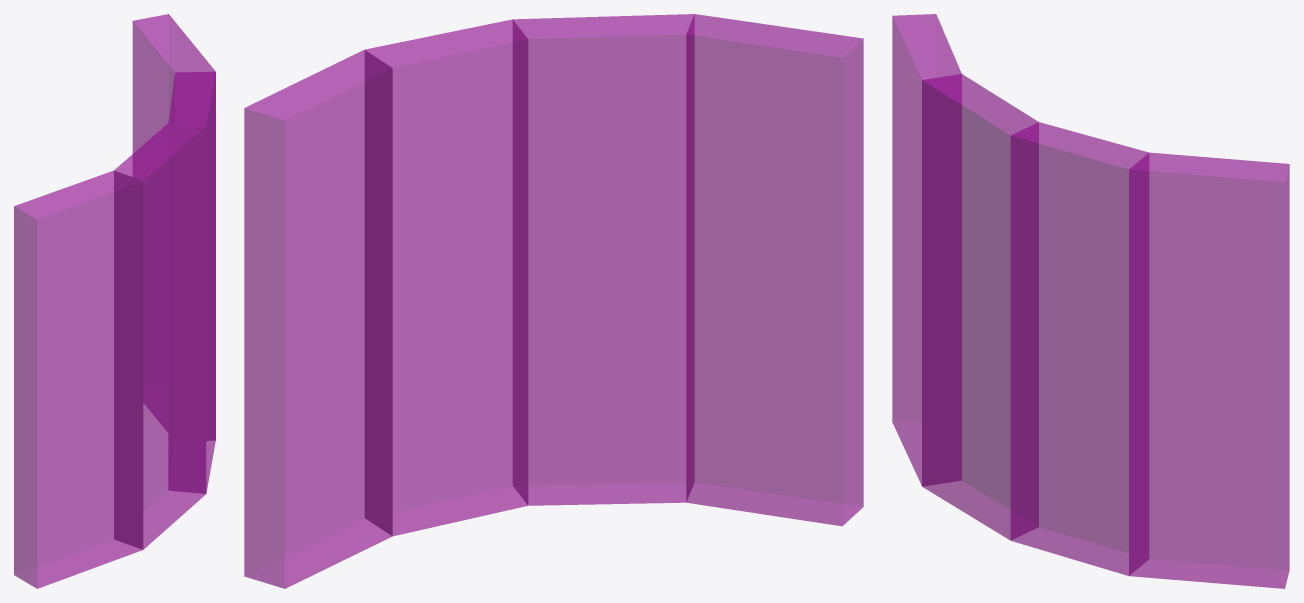
File: SM_Bld_Wall_Window_Fancy_Curved_M_01_Collision.fbx
3 views of the same model, side by side, from view 1: azimuth 30°, elevation 25°; view 2: azimuth 150°, elevation 25°; view 3: azimuth 270°, elevation 25° (orthographic). The views are drawn at different scales.
Visible parts, largest first — view 1: SM_Bld_Wall_Window_Fancy_Curved_M_01_Collision; view 2: SM_Bld_Wall_Window_Fancy_Curved_M_01_Collision; view 3: SM_Bld_Wall_Window_Fancy_Curved_M_01_Collision.
Boxes of the visible parts, x1,y1,x2,y2 form: SM_Bld_Wall_Window_Fancy_Curved_M_01_Collision: (14, 14, 215, 588); SM_Bld_Wall_Window_Fancy_Curved_M_01_Collision: (244, 14, 863, 588); SM_Bld_Wall_Window_Fancy_Curved_M_01_Collision: (892, 14, 1289, 588).
Bounding box in the file's own units: 268 × 302 × 267.
